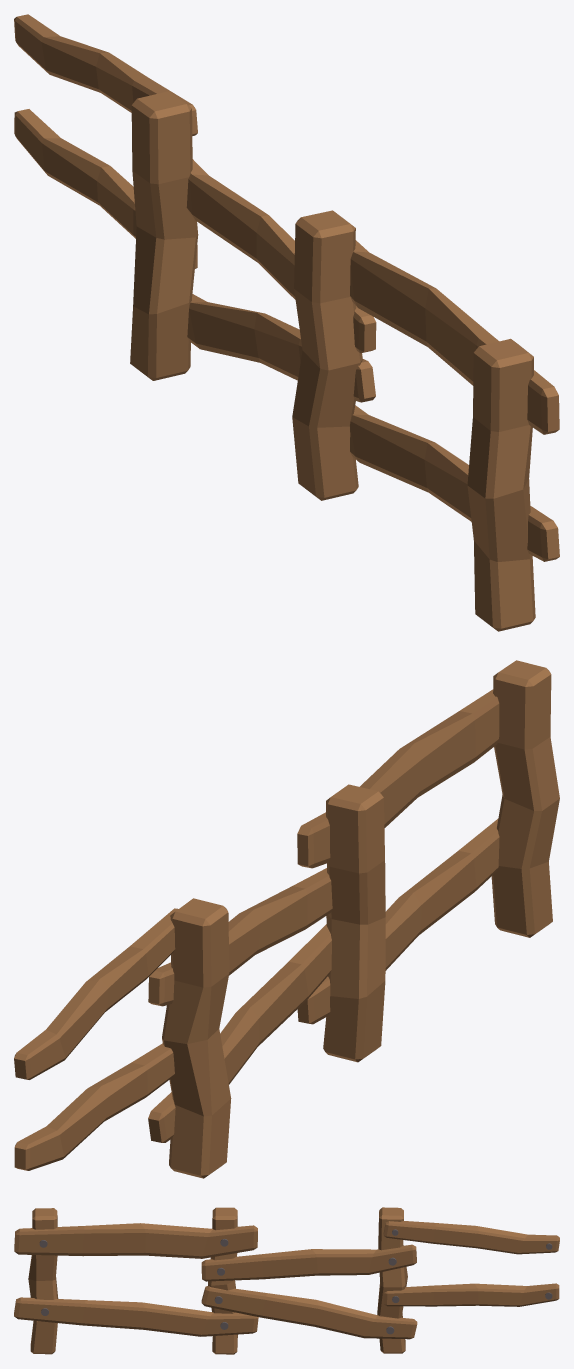
Rendered from Fence.fbx.
The picture shows the model from 3 angles, top to bottom: view 1: azimuth 30°, elevation 25°; view 2: azimuth 150°, elevation 25°; view 3: azimuth 270°, elevation 25°; orthographic projection. The views are drawn at different scales.
Visible parts, largest first — view 1: Cylinder.011; view 2: Cylinder.011; view 3: Cylinder.011.
Boxes of the visible parts, x1,y1,x2,y2 form: Cylinder.011: (14,14,559,631); Cylinder.011: (14,660,559,1178); Cylinder.011: (14,1207,559,1354).
Bounding box in the file's own units: 62.26 × 260 × 929.
